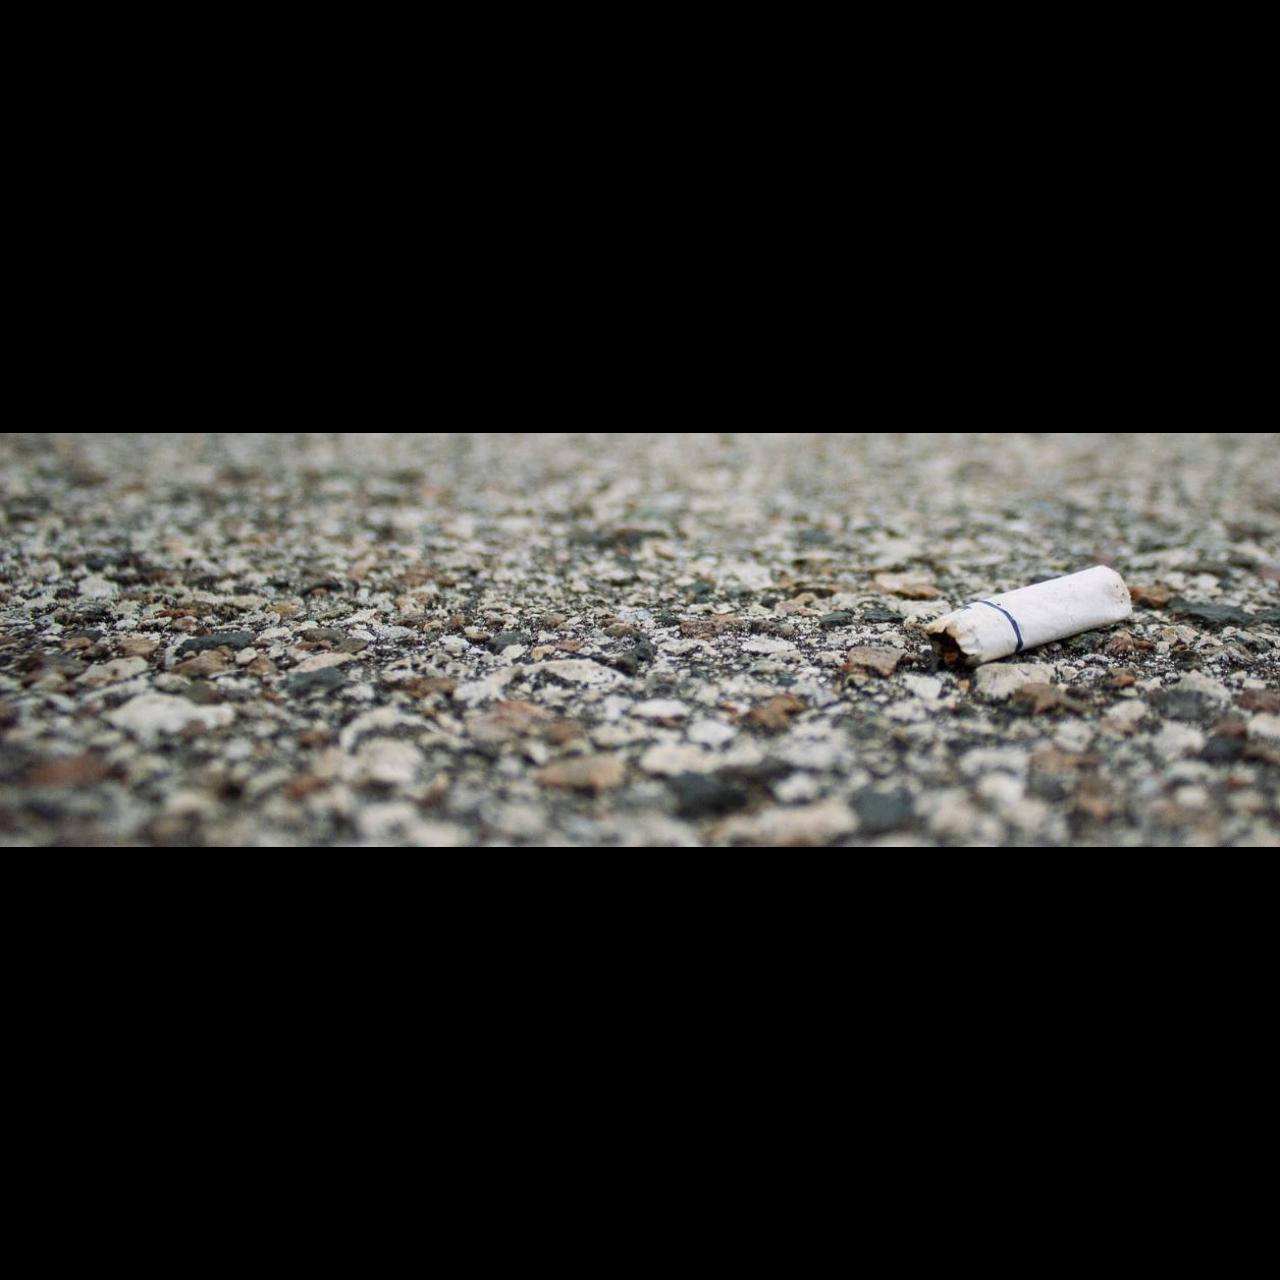cigarettes_butts: (919, 565, 1133, 672)
